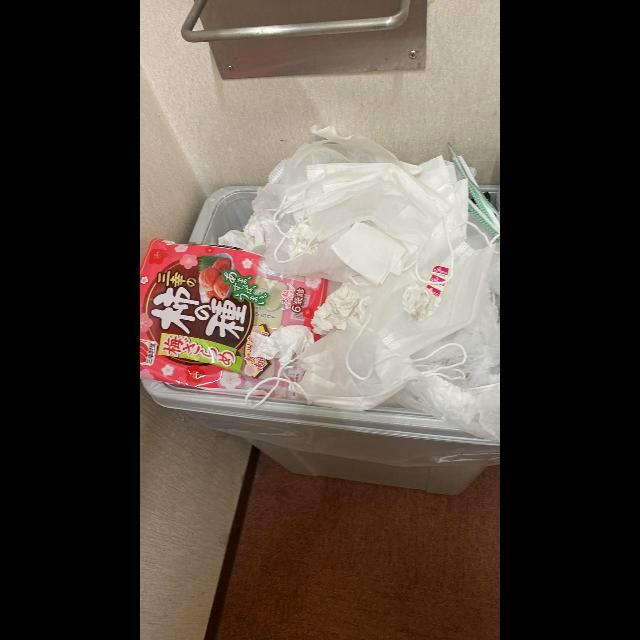food_wrapper: (140, 238, 329, 395)
paper: (310, 283, 372, 336), (250, 325, 315, 367), (218, 215, 268, 256), (403, 283, 441, 323)
